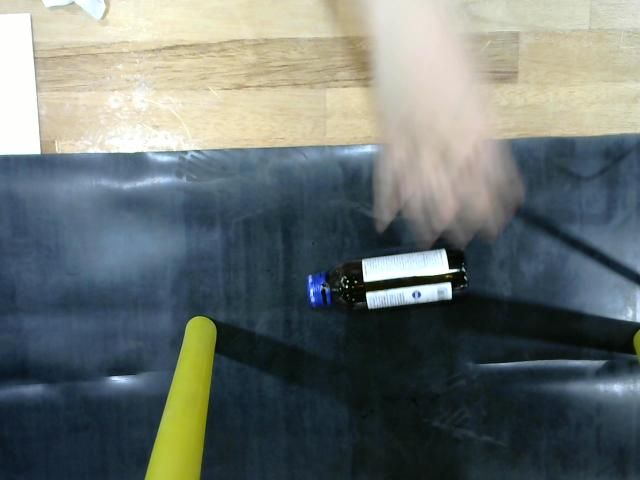glass: (297, 246, 481, 319)
